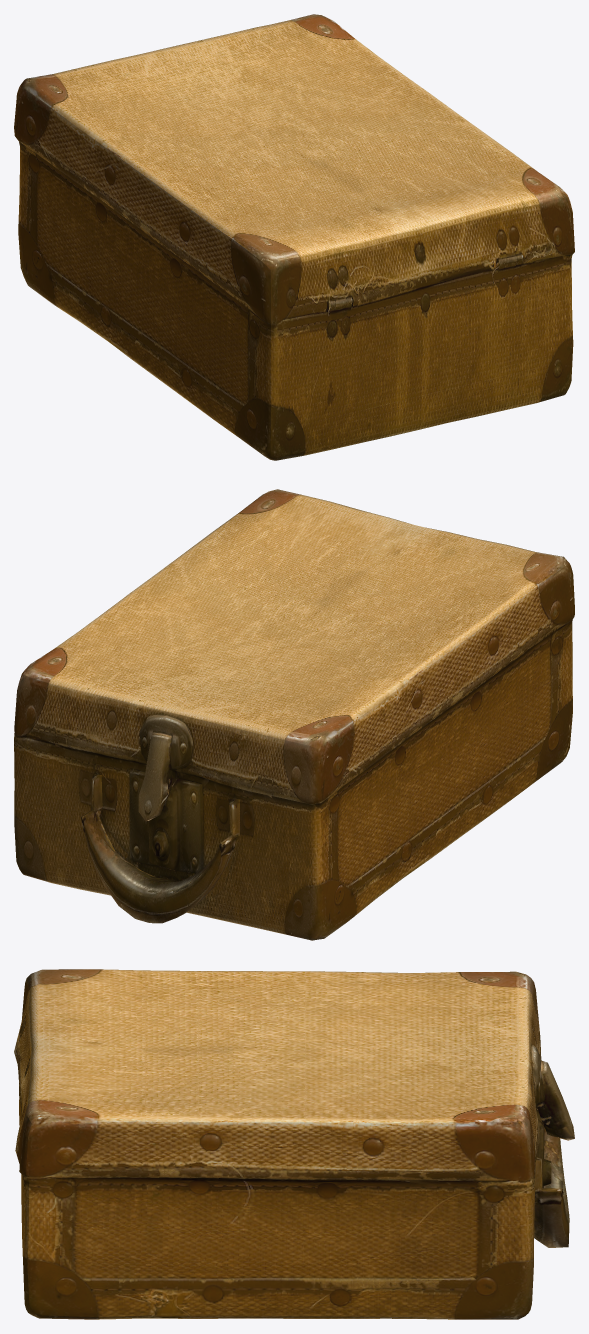
The model's file is suitcase.dae.
3 renders of one model, top to bottom at view 1: azimuth 30°, elevation 25°; view 2: azimuth 150°, elevation 25°; view 3: azimuth 270°, elevation 25°, orthographic.
Parts seen in each view (by area): view 1: node0; view 2: node0; view 3: node0.
Part boxes in pixels (x1=…): node0: x1=14, y1=14, x2=574, y2=460; node0: x1=14, y1=489, x2=574, y2=940; node0: x1=14, y1=969, x2=574, y2=1319.
Bounding box in the file's own units: 0.37 × 0.58 × 0.24.
1 material, 1 textured.
